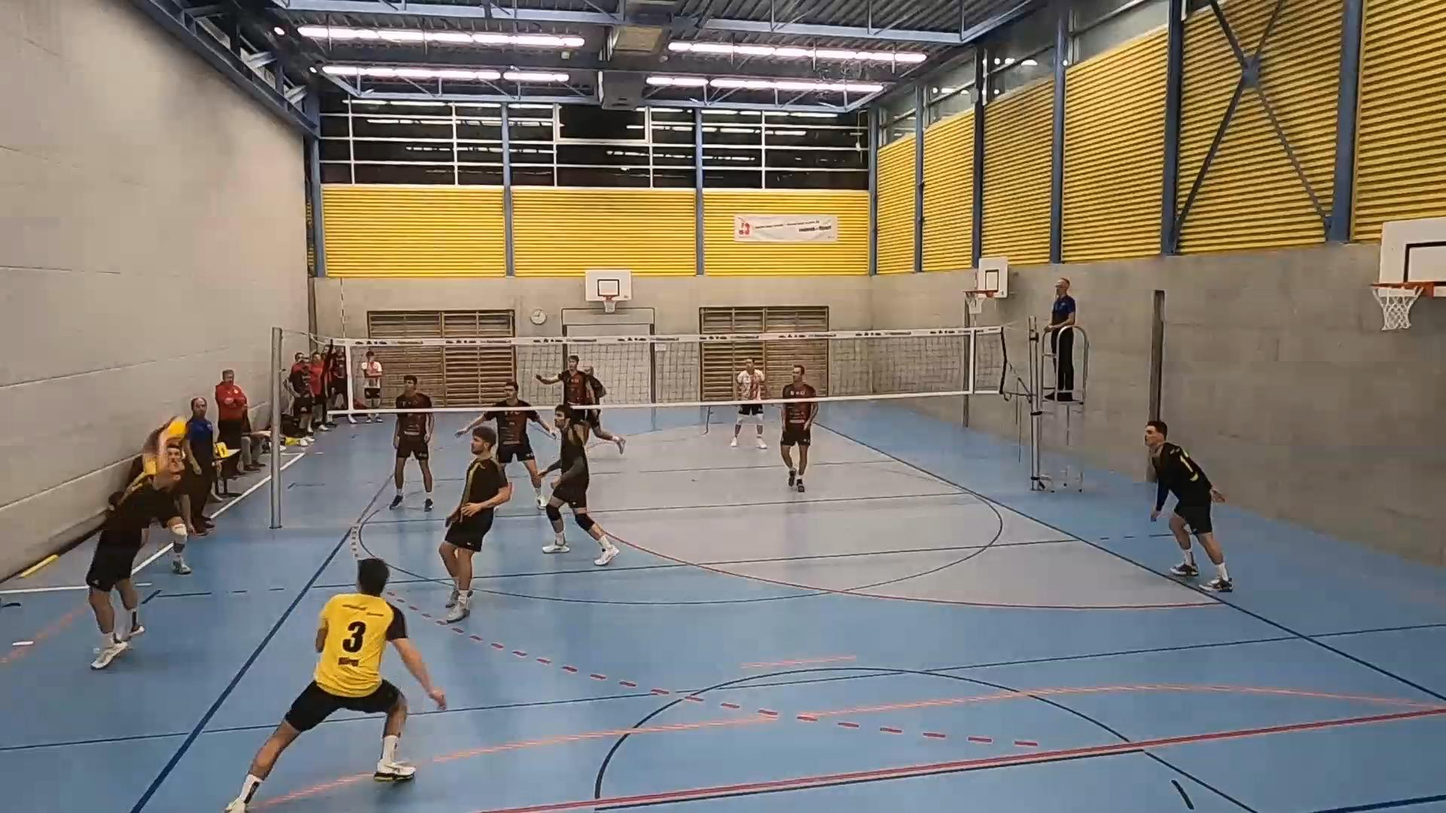alzata: (69, 406, 189, 669)
